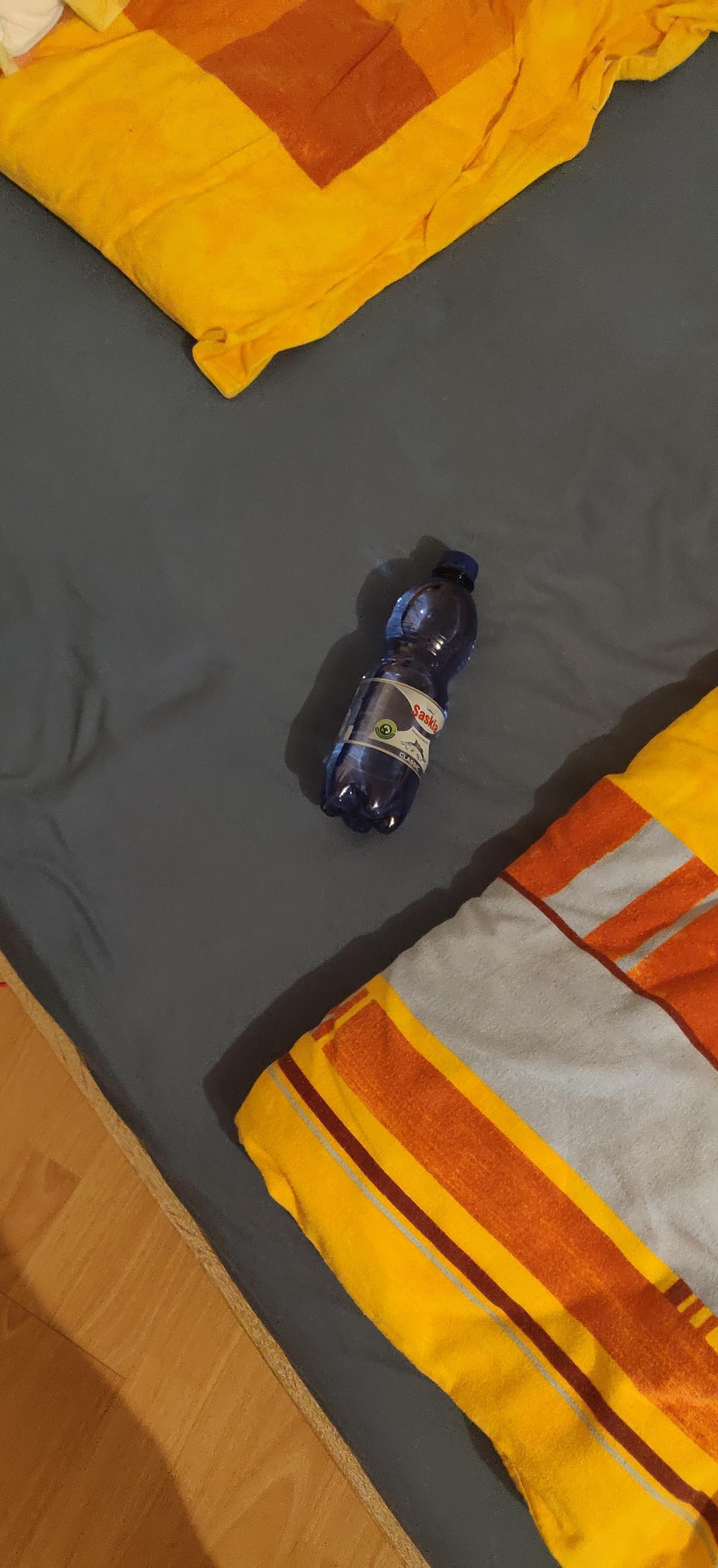bottle-plastic: (319, 548, 481, 835)
